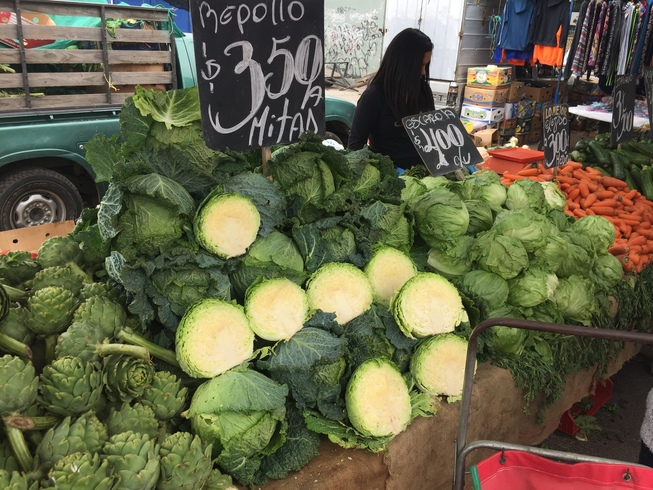precio: (183, 1, 340, 162), (394, 102, 495, 182), (537, 94, 584, 178)
